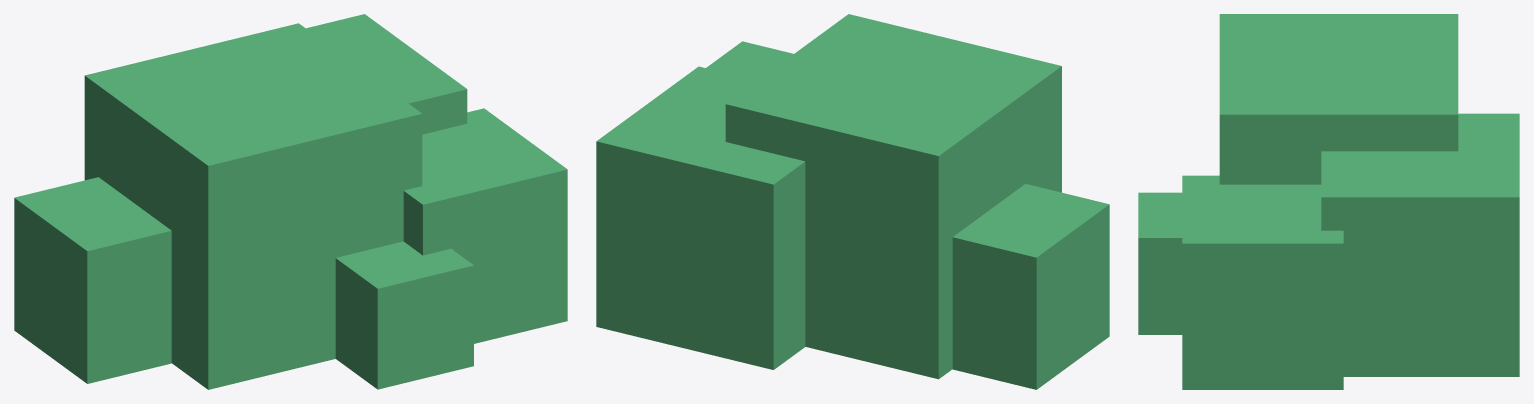
The model's file is grass.fbx.
The picture shows the model from 3 angles, left to right: view 1: azimuth 30°, elevation 25°; view 2: azimuth 150°, elevation 25°; view 3: azimuth 270°, elevation 25°; orthographic projection. The views are drawn at different scales.
Visible parts, largest first — view 1: Cube.018; view 2: Cube.018; view 3: Cube.018.
Part boxes in pixels (x1,y1,x2,y2): Cube.018: (14,14,567,389); Cube.018: (596,14,1109,389); Cube.018: (1138,14,1519,389).
Size of the model in its own units: 22.72 by 11.47 by 18.33.
